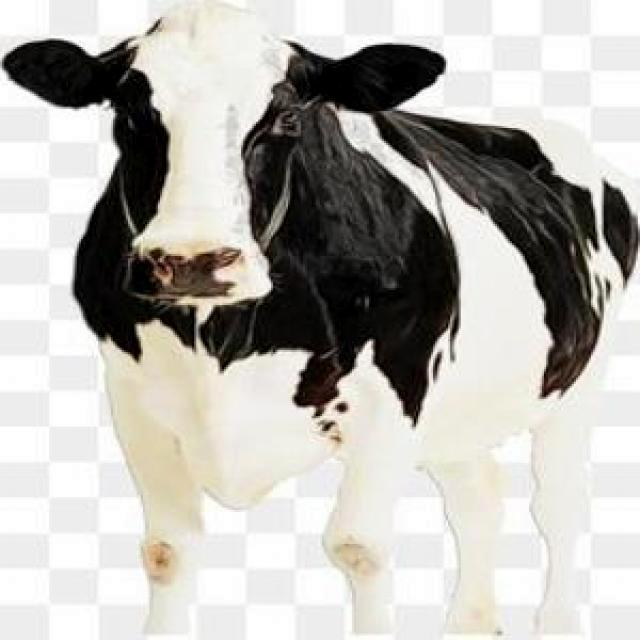COW: (2, 4, 640, 640)
